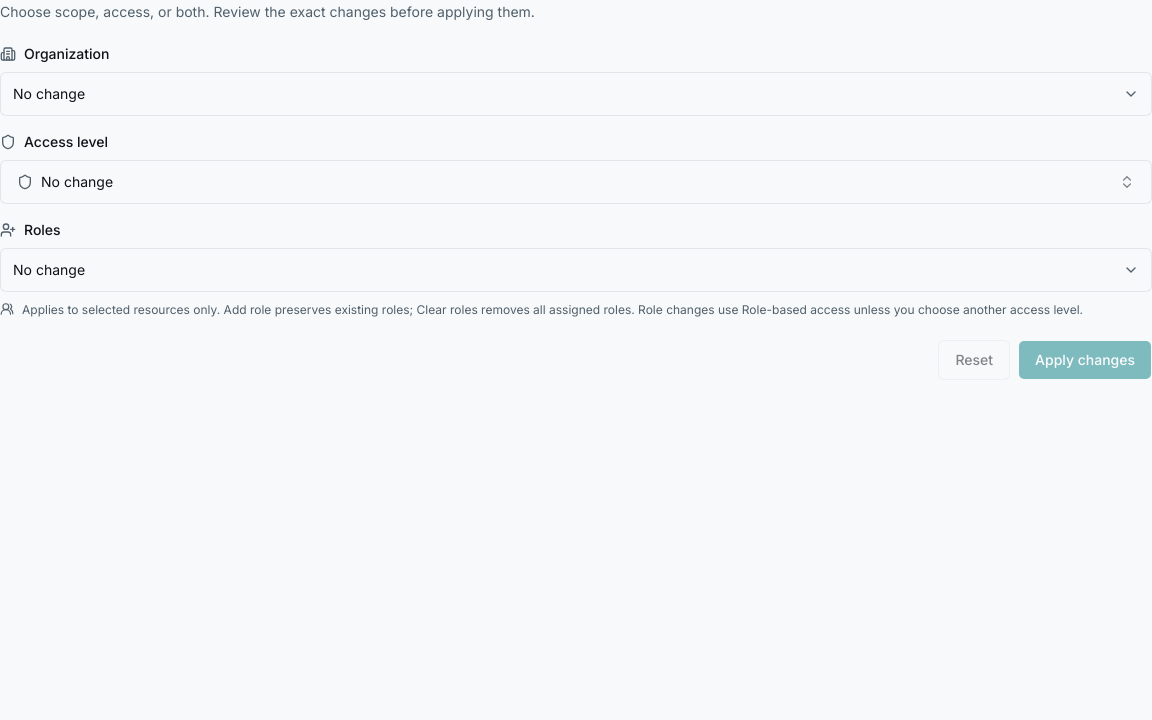
Test case: does not apply when the proposed access change is already effective
The image size is (1152, 720).
Click the dropdown named "Access level change". click: (77, 182)
box: [0, 160, 1151, 204]
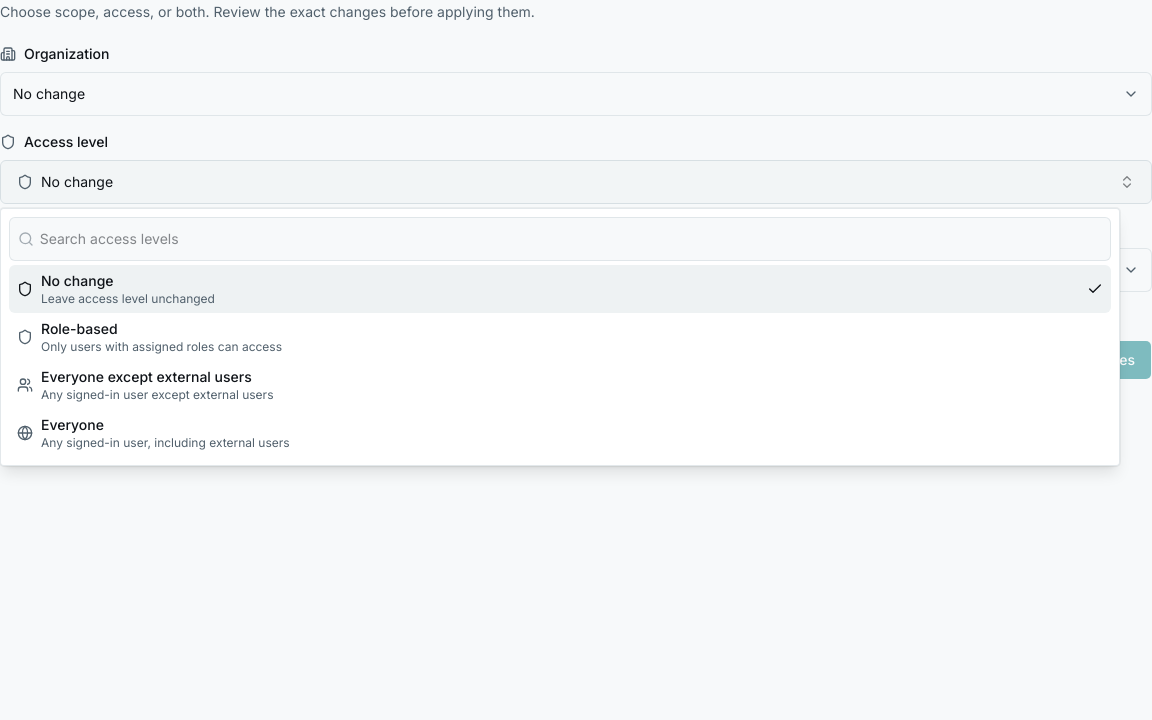
Click the option "Everyone except external users". click: (145, 385)
box: [17, 368, 274, 402]
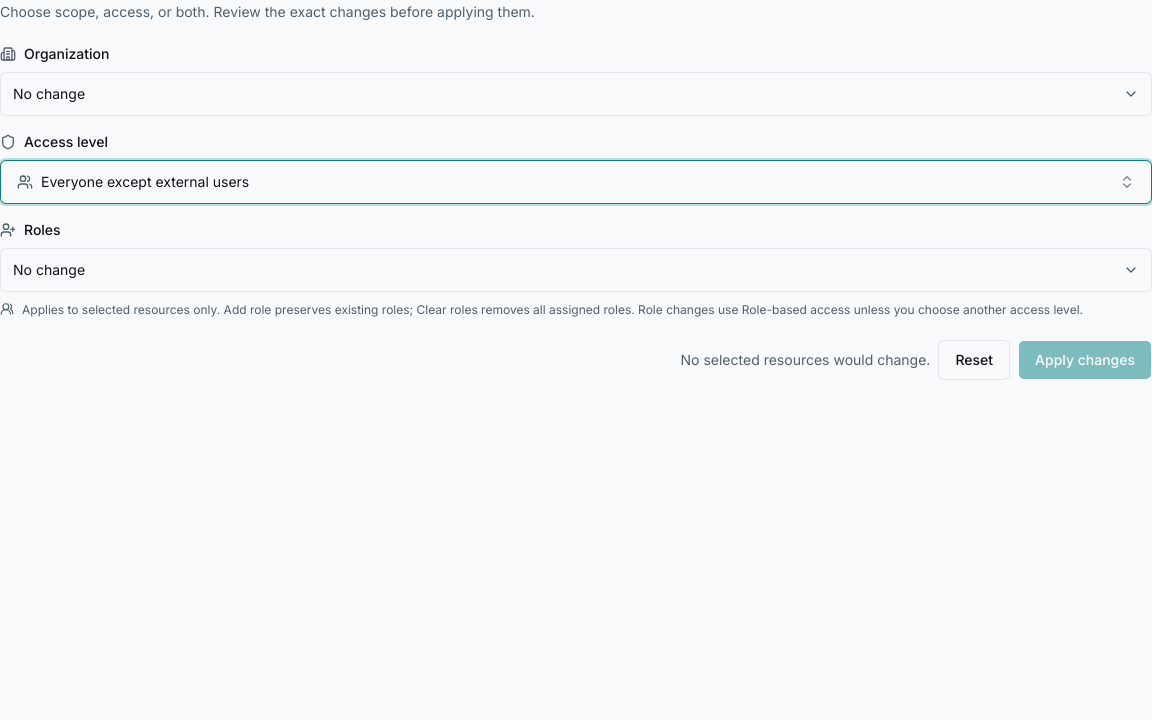
Expected: the button "Apply changes" is disabled, [1018, 340, 1151, 380]
Now the text "No selected resources would change." is shown, box [680, 350, 930, 370]
